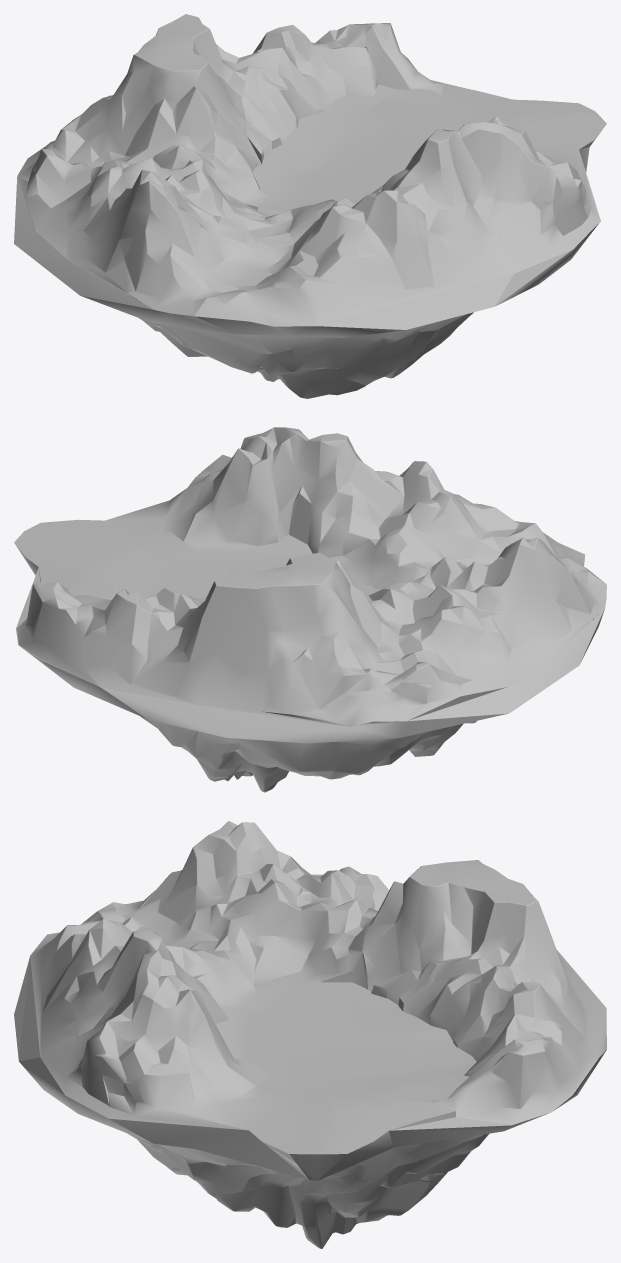
Rendered from Island Spawn.fbx.
3 renders of one model, top to bottom at view 1: azimuth 30°, elevation 25°; view 2: azimuth 150°, elevation 25°; view 3: azimuth 270°, elevation 25°, orthographic. The views are drawn at different scales.
Visible parts, largest first — view 1: Island Spawn_Baked; view 2: Island Spawn_Baked; view 3: Island Spawn_Baked.
Part boxes in pixels (x1,y1,x2,y2): Island Spawn_Baked: (14, 14, 606, 398); Island Spawn_Baked: (14, 427, 606, 792); Island Spawn_Baked: (14, 821, 606, 1248).
Bounding box in the file's own units: 13222 × 6846 × 11940.
Materials: 1 (1 with a texture image).
